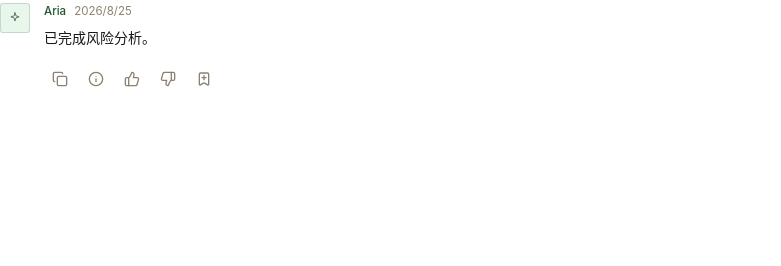
Test: ProjectChatMessage › renders the same persisted Product Run timeline after refresh
Click the button named "查看回答详情". click: [96, 79]
box: [80,63,112,95]
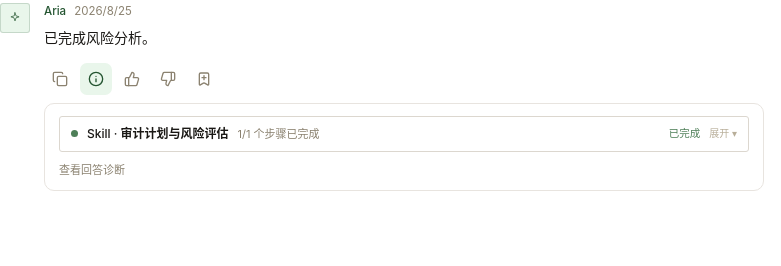
Check: the element named "Aria 运行时间线" shows "Skill · 审计计划与风险评估"
Click the button "Skill · 审计计划与风险评估 1/1 个步骤已完成 已完成 展开 ▾". click: [158, 133]
box: [60,117,748,151]
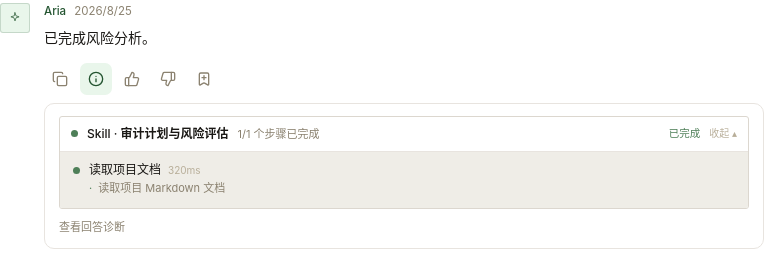
Check: the text "读取项目文档" is shown, box [89,161,161,178]
Check: the text "读取项目 Markdown 文档" is shown, box [98,181,225,197]
